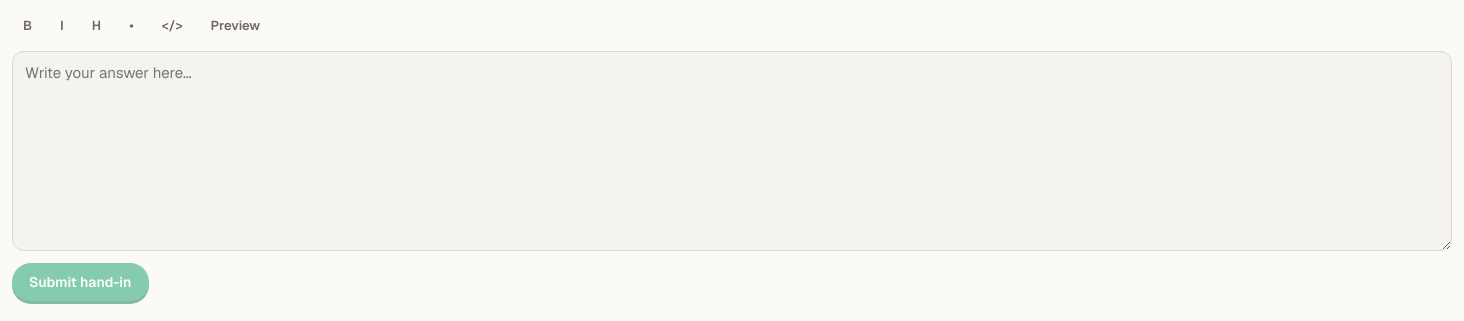
it: SubmissionEditor › toggles a markdown preview
The image size is (1464, 321).
Type "# Title" into the text box with test id "submission-textarea" at [732, 151], box [12, 51, 1452, 251]
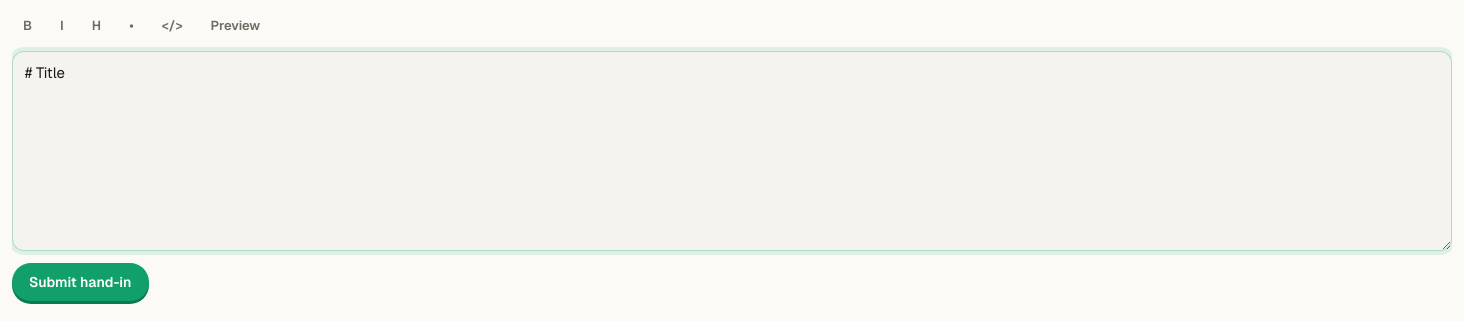
Click the button with test id "submission-preview-toggle" at [235, 26], box [200, 12, 271, 39]
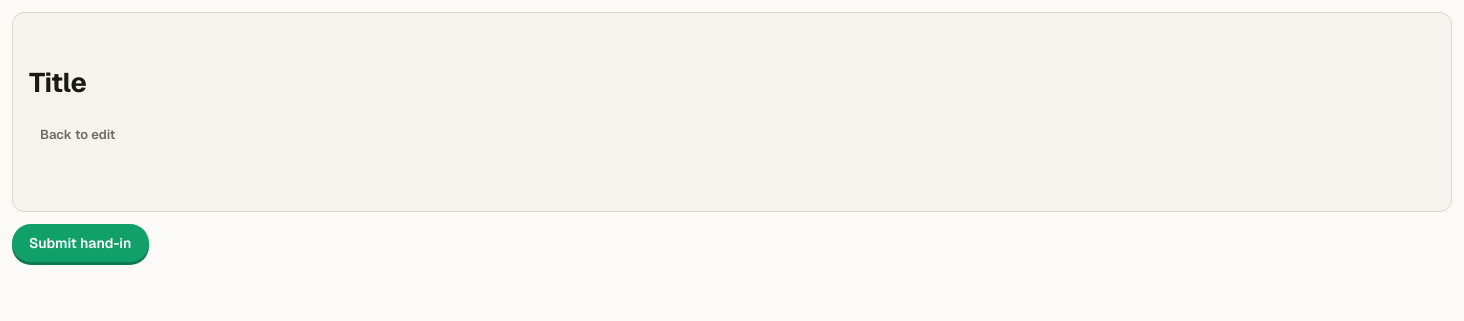
expect the element with test id "submission-preview" is shown: met
